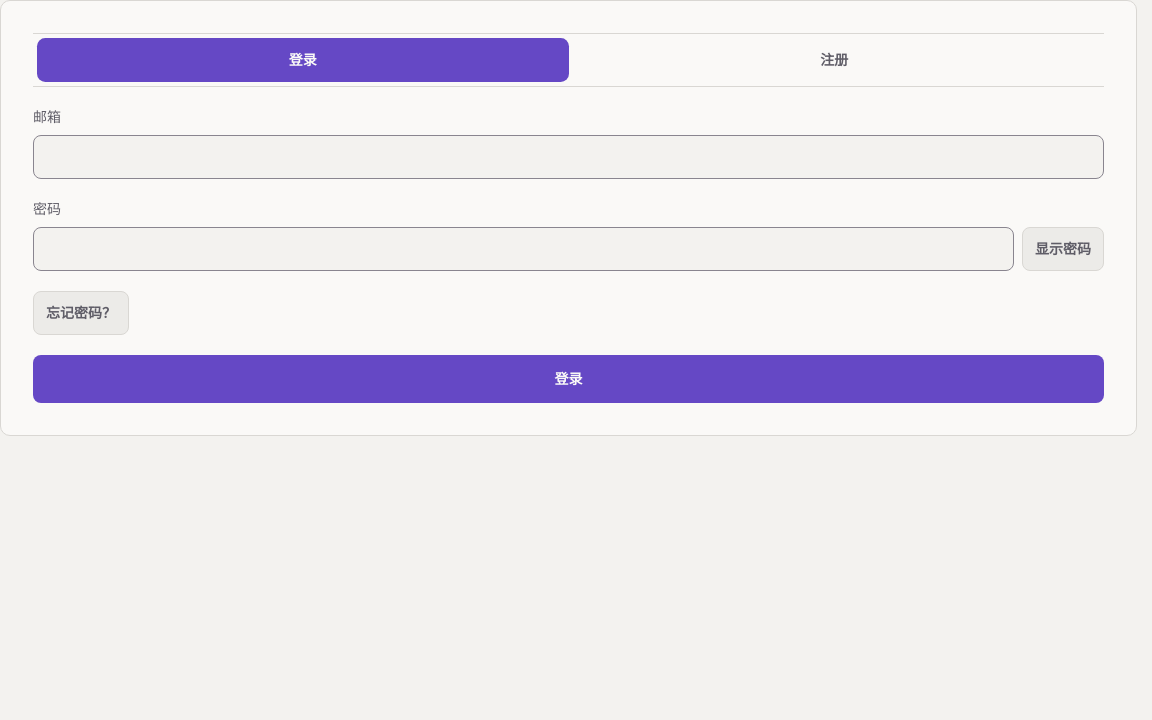
it: AuthForm invitation code › blocks registration until failed registration settings can be retried
What coordinates should you click on to do the following:
click the button "注册"
I would click on:
 (834, 60)
Its box is [568,38,1100,82].
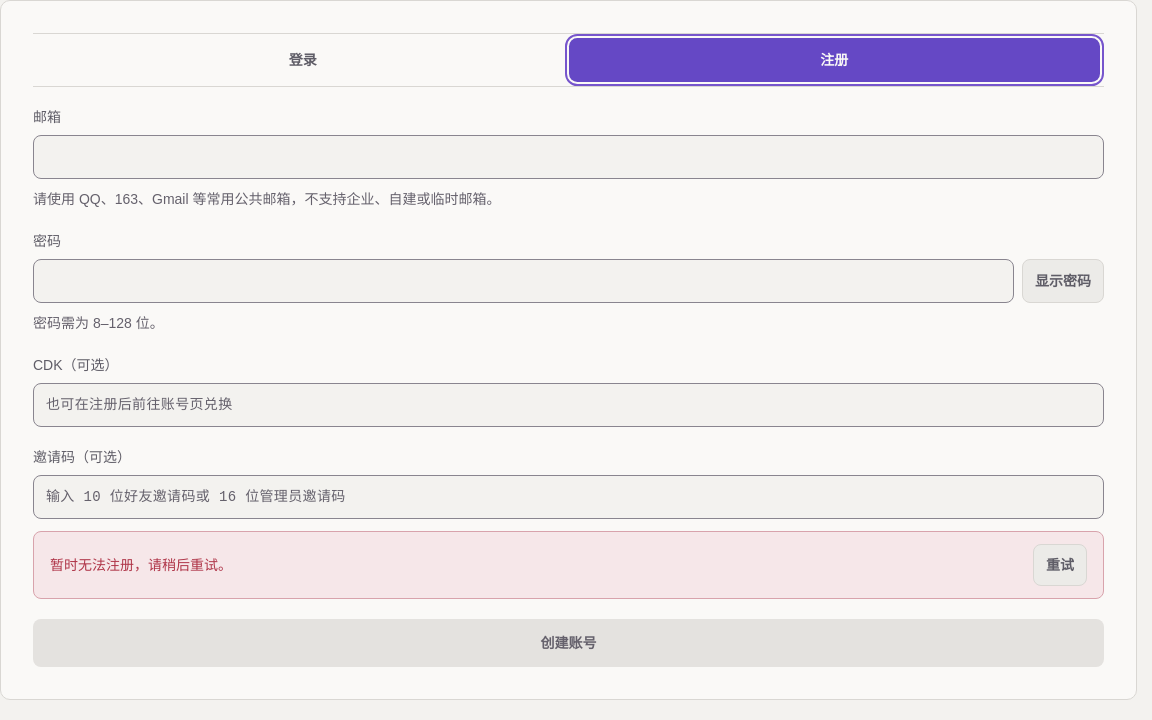
Now the message shows "暂时无法注册", box [50,557,232,573]
Now the button "创建账号" is disabled, box [33,619,1104,667]
What coordinates should you click on to do the following:
click the button "重试"
I would click on:
 (1060, 565)
Its box is [1033,544,1087,586].
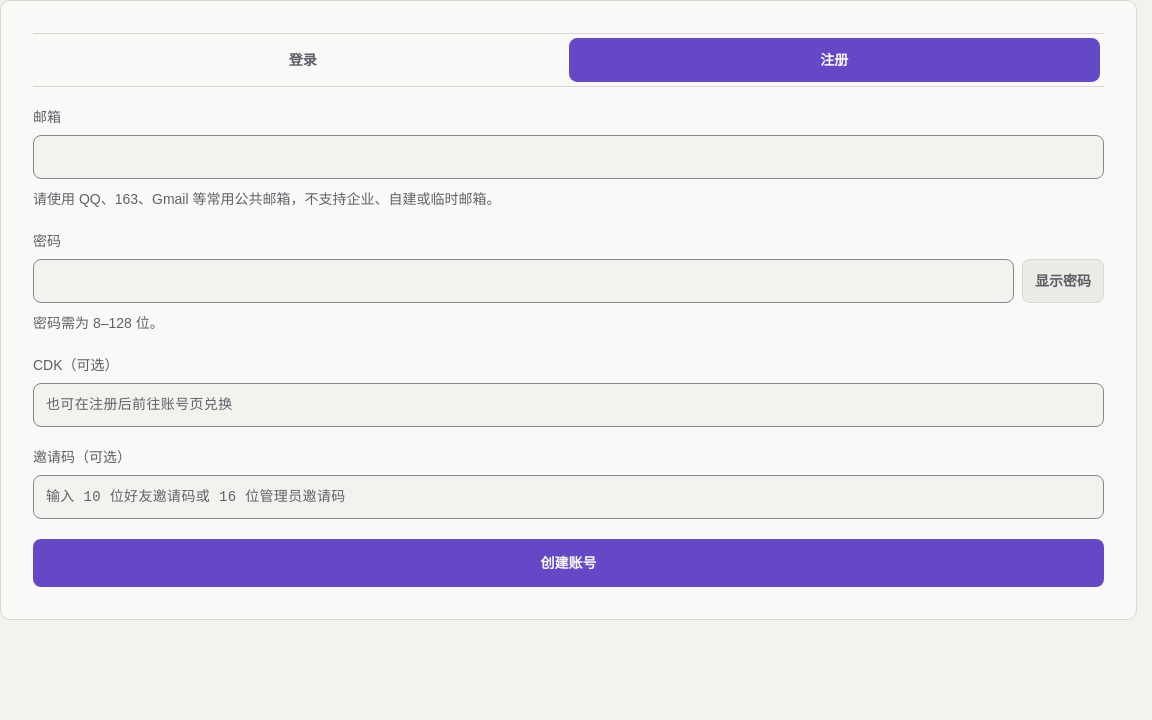
Now the button "创建账号" is enabled, box [33,539,1104,587]
